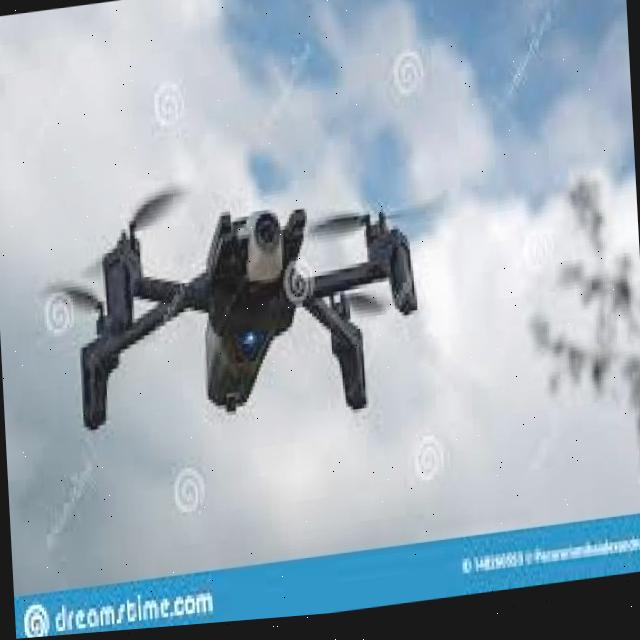drone: (45, 159, 442, 481)
